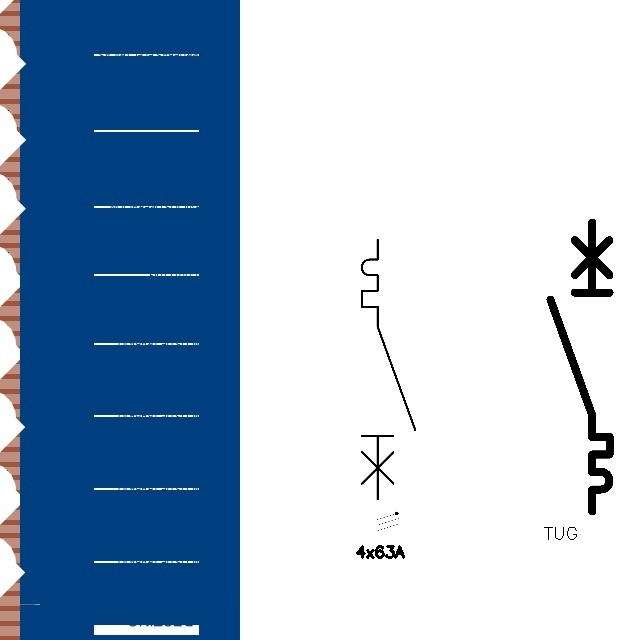interruptor_termomagnetico: (543, 215, 617, 519), (355, 233, 422, 506)
